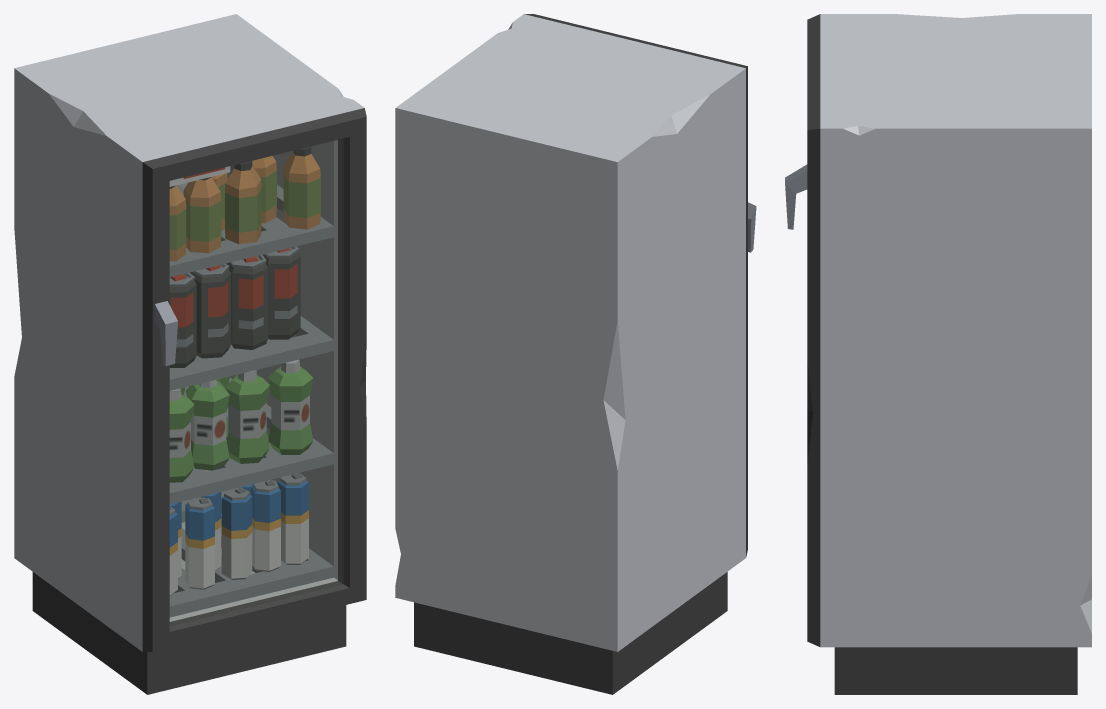
The model's file is SM_Prop_FridgeDrinks_01.fbx.
3 views of the same model, side by side, from view 1: azimuth 30°, elevation 25°; view 2: azimuth 150°, elevation 25°; view 3: azimuth 270°, elevation 25° (orthographic). The views are drawn at different scales.
Visible parts, largest first — view 1: SM_Prop_FridgeDrinks_01, SM_Prop_FridgeDrinks_Contents_01; view 2: SM_Prop_FridgeDrinks_01, SM_Prop_FridgeDrinks_Contents_01; view 3: SM_Prop_FridgeDrinks_01, SM_Prop_FridgeDrinks_Contents_01.
Part boxes in pixels (box(x1,y1,x2,y2)): SM_Prop_FridgeDrinks_01: box(14, 14, 364, 694); SM_Prop_FridgeDrinks_Contents_01: box(142, 108, 366, 651); SM_Prop_FridgeDrinks_01: box(395, 14, 745, 694); SM_Prop_FridgeDrinks_Contents_01: box(524, 14, 756, 557); SM_Prop_FridgeDrinks_01: box(820, 14, 1091, 694); SM_Prop_FridgeDrinks_Contents_01: box(785, 14, 820, 646).
Size of the model in its own units: 68.16 by 158 by 76.99.
